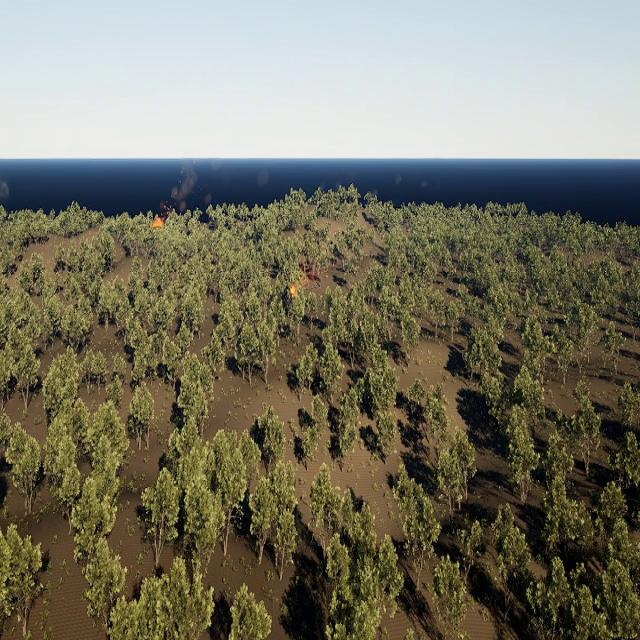fire: (151, 215, 163, 228), (288, 284, 296, 296)
smoke: (170, 158, 198, 210), (0, 176, 11, 204)
